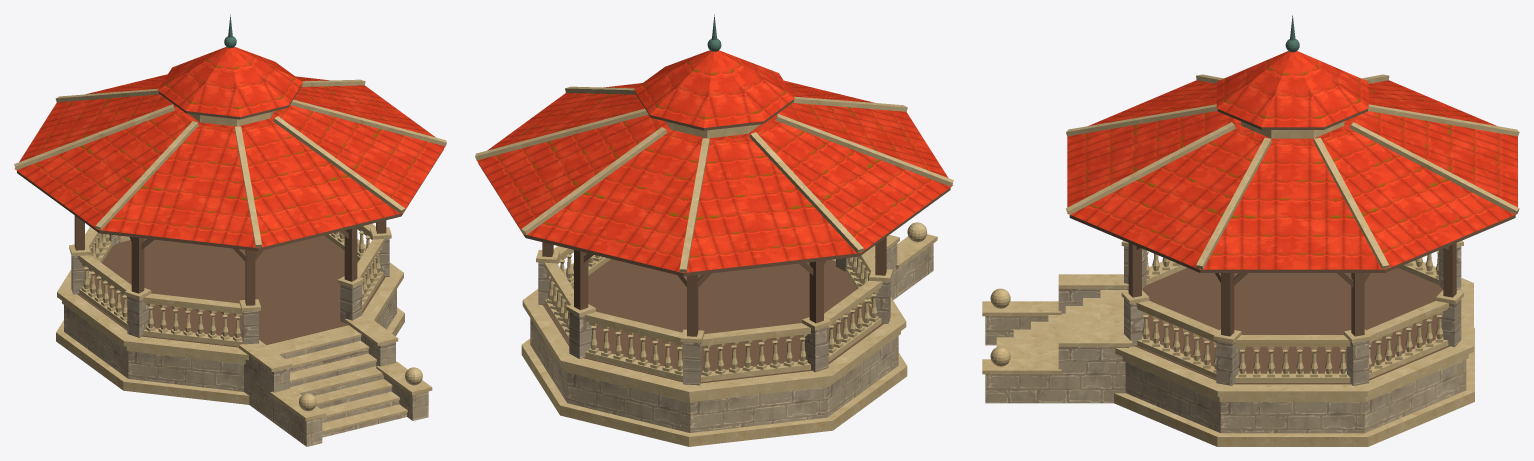
Rendered from coreto.gltf.
3 views of the same model, side by side, from view 1: azimuth 30°, elevation 25°; view 2: azimuth 150°, elevation 25°; view 3: azimuth 270°, elevation 25° (orthographic). The views are drawn at different scales.
Parts seen in each view (by area): view 1: CoretoCathedralRoof, CoretoCathedralTrim, CoretoPropWood, CoretoCathedralStone; view 2: CoretoCathedralRoof, CoretoCathedralTrim, CoretoPropWood, CoretoCathedralStone; view 3: CoretoCathedralRoof, CoretoCathedralTrim, CoretoPropWood, CoretoCathedralStone.
Part boxes in pixels (bbox=[...]): CoretoCathedralRoof: bbox=[15, 47, 445, 248]; CoretoCathedralTrim: bbox=[14, 79, 446, 433]; CoretoPropWood: bbox=[17, 84, 443, 347]; CoretoCathedralStone: bbox=[64, 234, 428, 446]; CoretoCathedralRoof: bbox=[477, 50, 952, 272]; CoretoCathedralTrim: bbox=[475, 86, 953, 446]; CoretoPropWood: bbox=[478, 91, 950, 383]; CoretoCathedralStone: bbox=[530, 243, 933, 433]; CoretoCathedralRoof: bbox=[1067, 51, 1517, 269]; CoretoCathedralTrim: bbox=[982, 74, 1519, 446]; CoretoPropWood: bbox=[1069, 109, 1515, 384]; CoretoCathedralStone: bbox=[985, 246, 1466, 433].
Size of what is drawn, in the model's own units: 8.93 by 7.73 by 10.57.
Materials: 5 (3 with a texture image).
